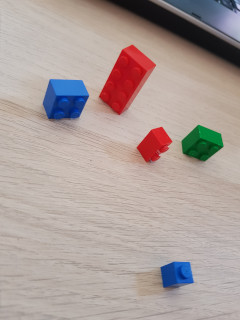1x1 blue: (160, 261, 195, 290)
1x2 red: (137, 126, 174, 163)
2x2 blue: (42, 80, 89, 124)
2x2 green: (181, 124, 224, 161)
2x4 red: (100, 44, 158, 115)
